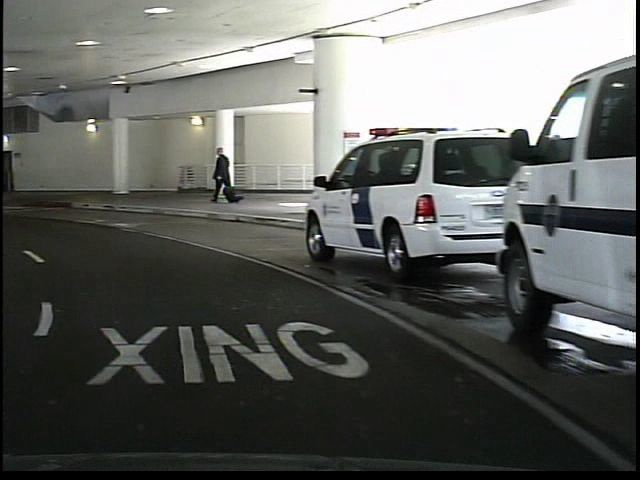person: (207, 144, 232, 203)
